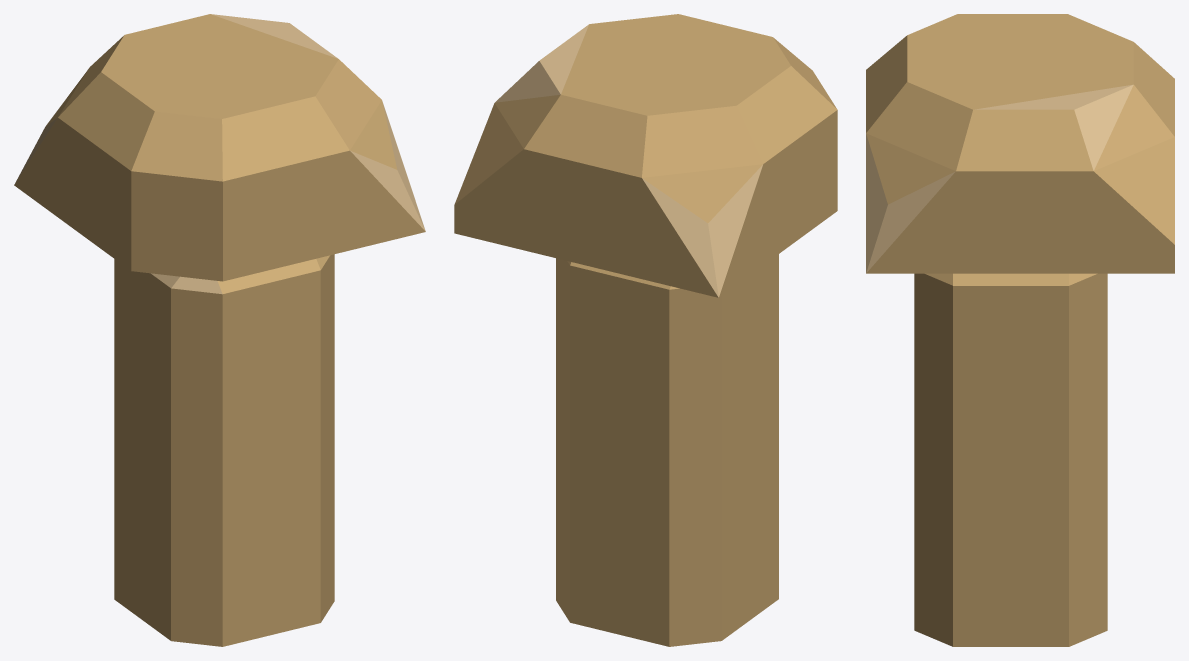
Rendered from desert_rock_7.fbx.
3 views of the same model, side by side, from view 1: azimuth 30°, elevation 25°; view 2: azimuth 150°, elevation 25°; view 3: azimuth 270°, elevation 25° (orthographic). The views are drawn at different scales.
Visible parts, largest first — view 1: desert_rock_7; view 2: desert_rock_7; view 3: desert_rock_7.
Boxes of the visible parts, x1=… form: desert_rock_7: x1=14, y1=14, x2=425, y2=646; desert_rock_7: x1=454, y1=14, x2=837, y2=646; desert_rock_7: x1=866, y1=14, x2=1174, y2=646.
Bounding box in the file's own units: 84.88 × 165 × 84.88.
